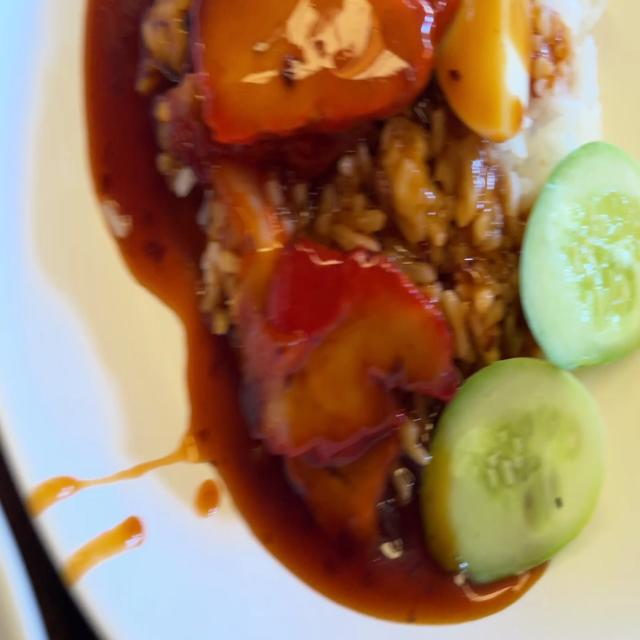01boiled_egg: (432, 0, 534, 143)
01red_pork: (231, 238, 431, 507), (168, 0, 430, 138)
01red_pork_and_crispy_pork: (138, 0, 640, 586)
cucumber: (419, 353, 606, 575), (521, 133, 640, 367)
